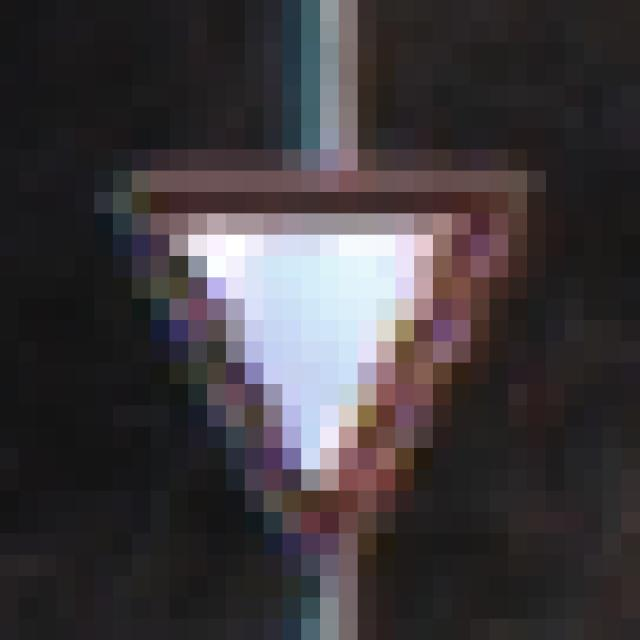Give Way: (95, 129, 547, 534)
